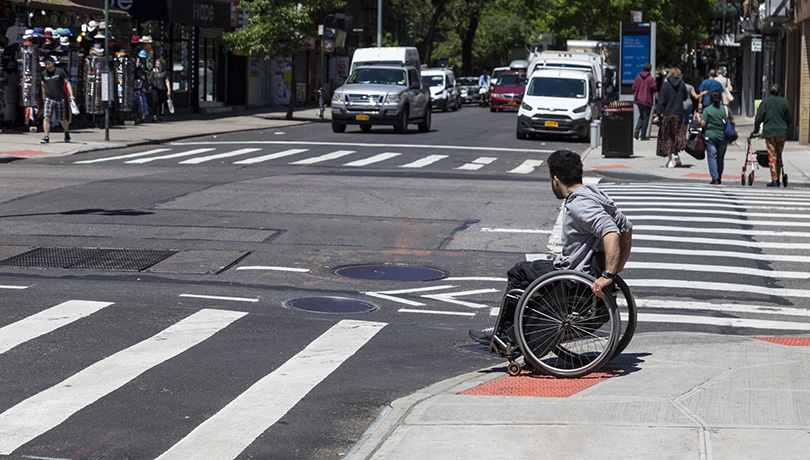person: (505, 152, 632, 289)
